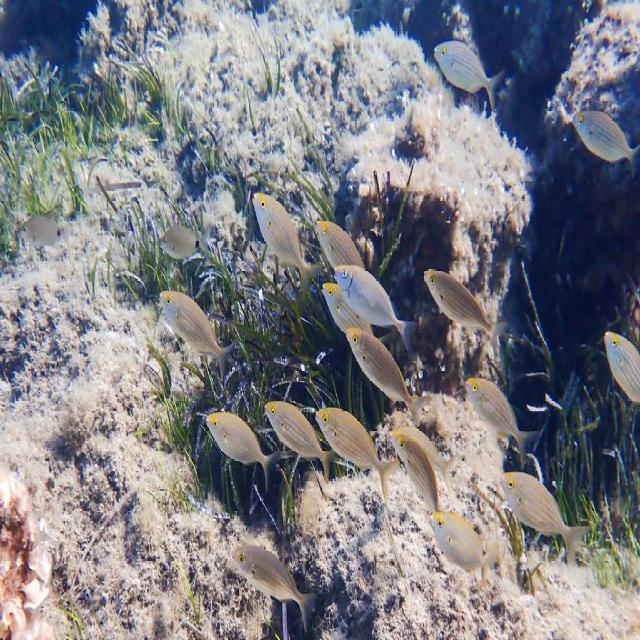Sokar Baligi: (229, 530, 319, 632), (421, 262, 509, 364), (156, 282, 232, 394), (565, 98, 640, 193), (427, 499, 499, 594), (430, 34, 502, 124), (154, 218, 215, 270)
